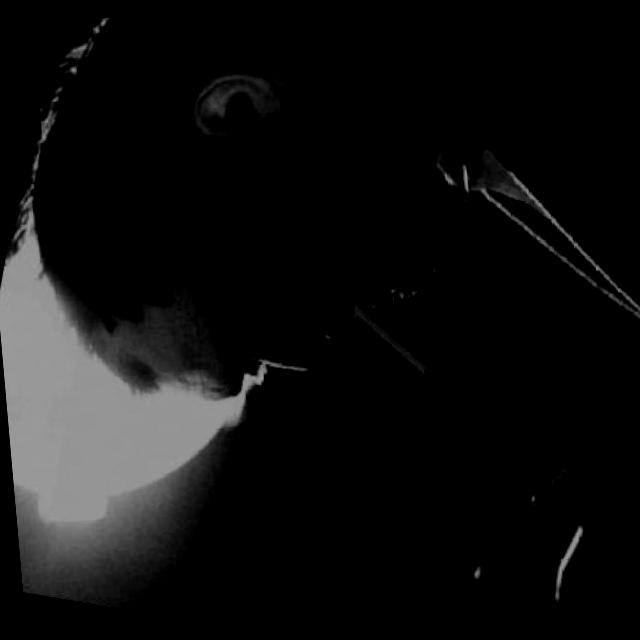smoke: (329, 278, 457, 387)
